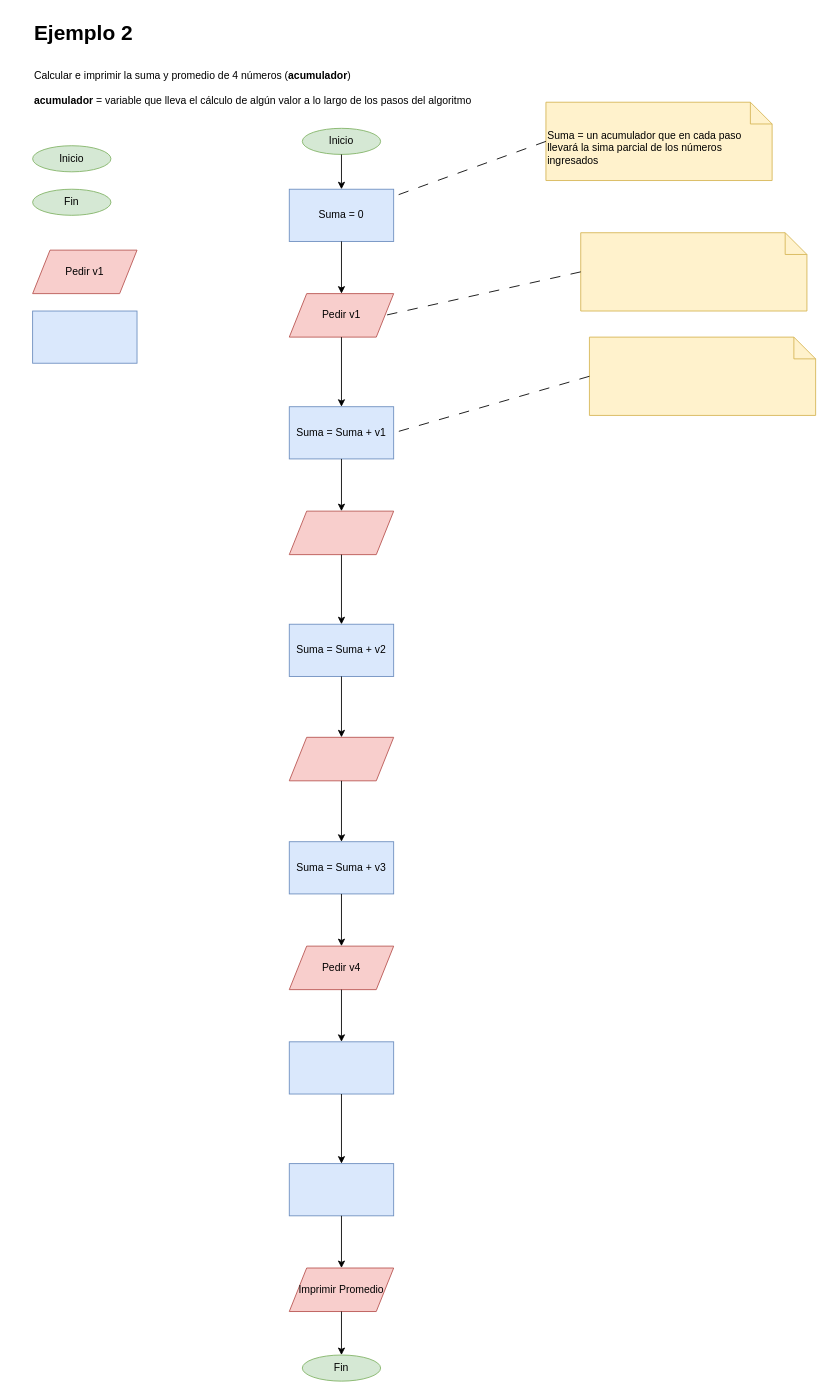
Image size: 831x1396. Some labels were removed from this diagram. The box of each missing label's shape, as (x1, y1, x2, y2) in pixels:
Acumulación del valor v1 en la suma: (589, 336, 816, 415)
Area = (b * h) / 2: (32, 310, 137, 363)
En cada paso del cálculo se pide un único valor: (580, 232, 807, 311)
Pedir v2: (288, 510, 394, 555)
Pedir v3: (288, 736, 394, 781)
Promedio = (Suma / 4): (288, 1163, 394, 1216)
Suma = Suma + v4: (288, 1041, 394, 1094)
